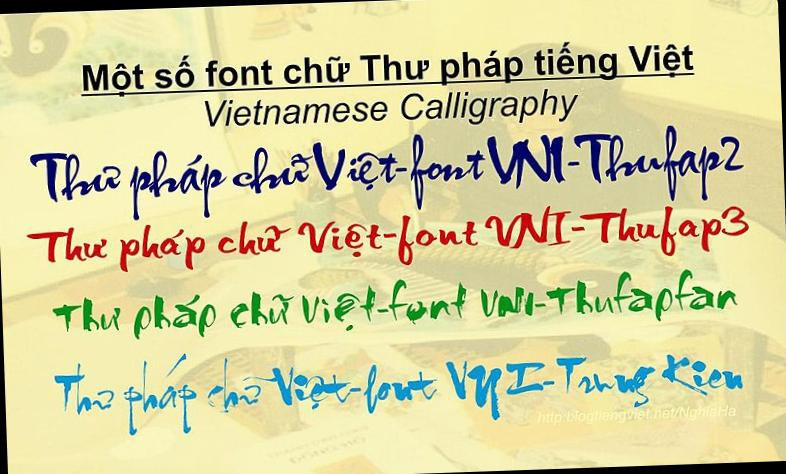text: (24, 116, 748, 228), (51, 330, 747, 445), (23, 198, 755, 286), (48, 262, 743, 347), (78, 34, 698, 102), (201, 81, 580, 138), (534, 401, 738, 427)
